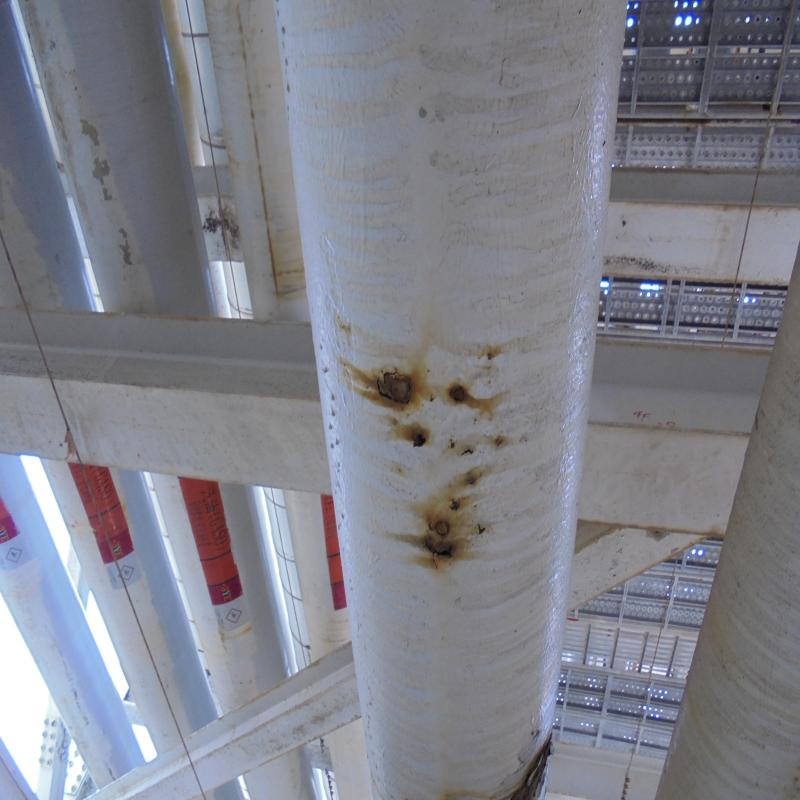corrosion: (426, 512, 466, 568), (380, 370, 422, 412), (449, 380, 482, 414), (409, 432, 427, 453)
